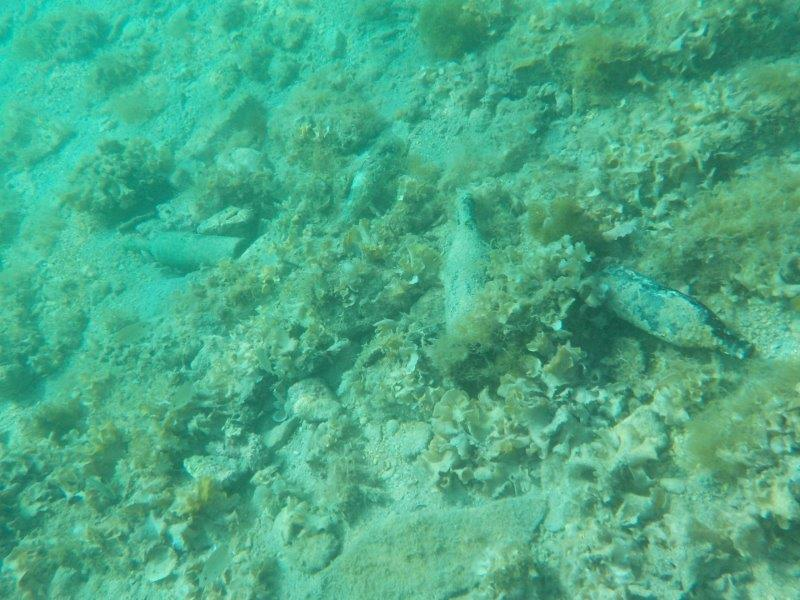bottle: (588, 259, 758, 363), (440, 190, 503, 347), (331, 134, 405, 231), (118, 227, 250, 272)
